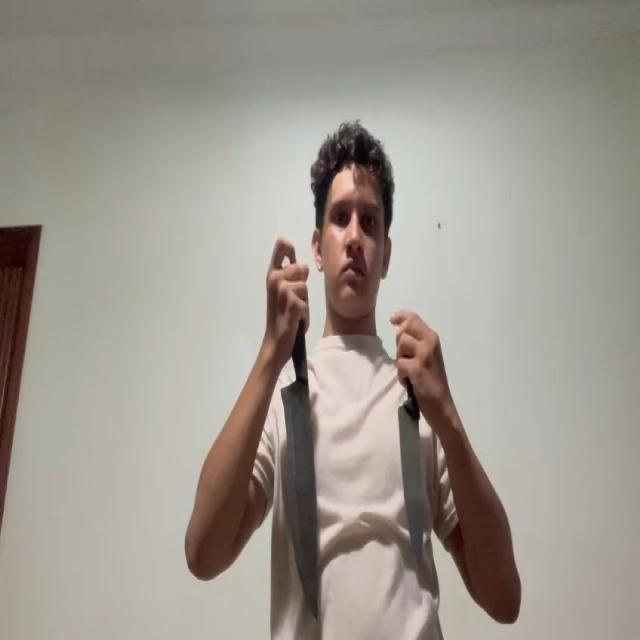knife: (280, 382, 319, 617), (397, 406, 424, 566)
